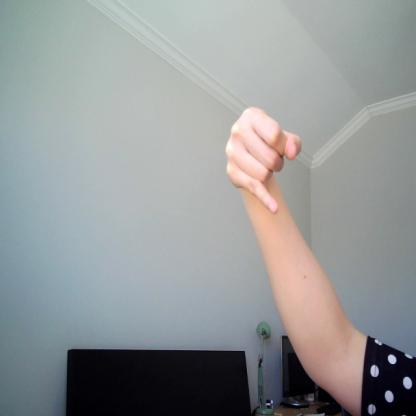J: (222, 105, 304, 215)
